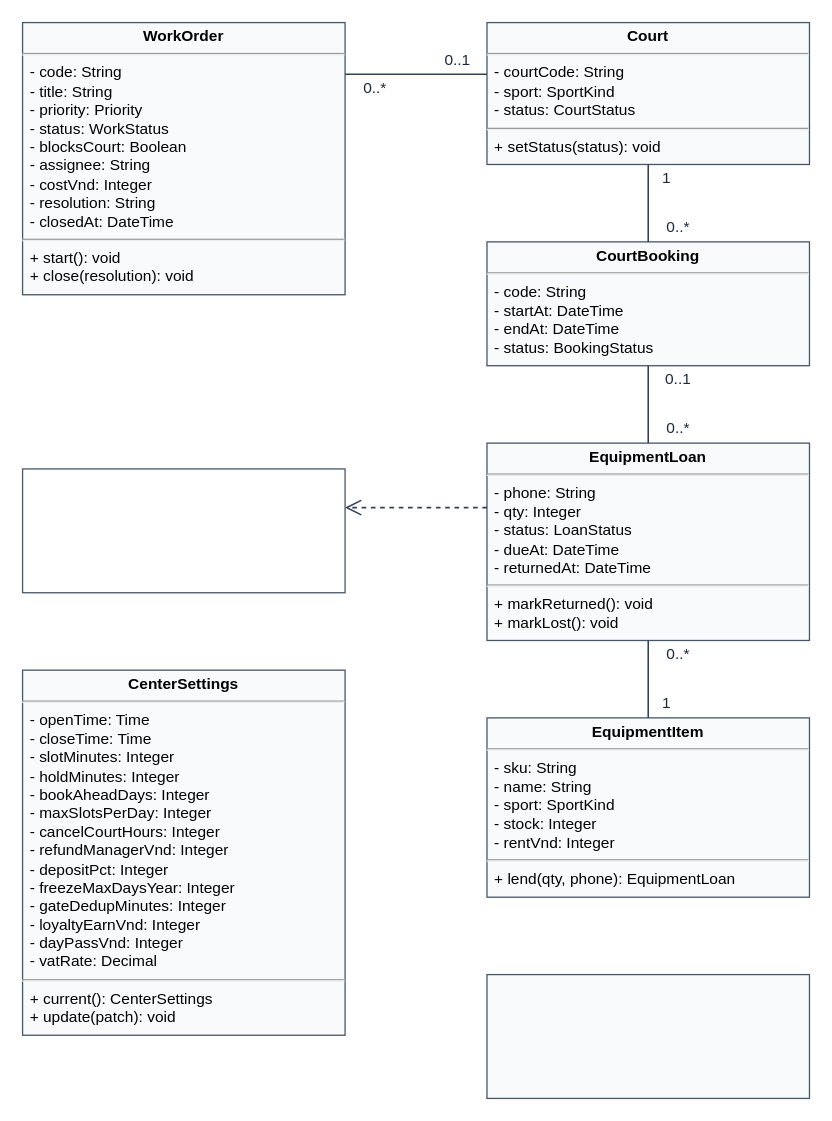
The diagram is 832 pixels wide and 1121 high, and some of its shapes have lost their labels. The shapes that lost their labels are listed below. From the top down, each one's centre as x and y in pixels, then its label:
the point at 183,530: «enumeration» LoanStatus out returned lost
the point at 647,1035: FeatureFlag - key: String - enabled: Boolean + toggle(): void
